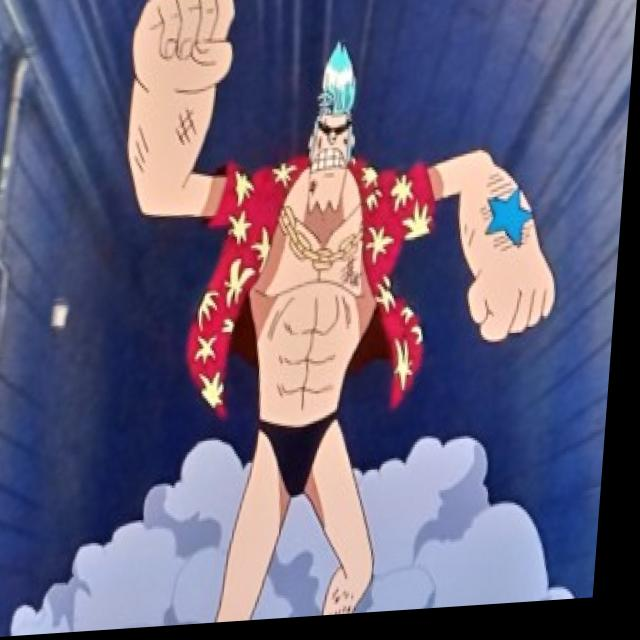Franky: (292, 34, 371, 226)
